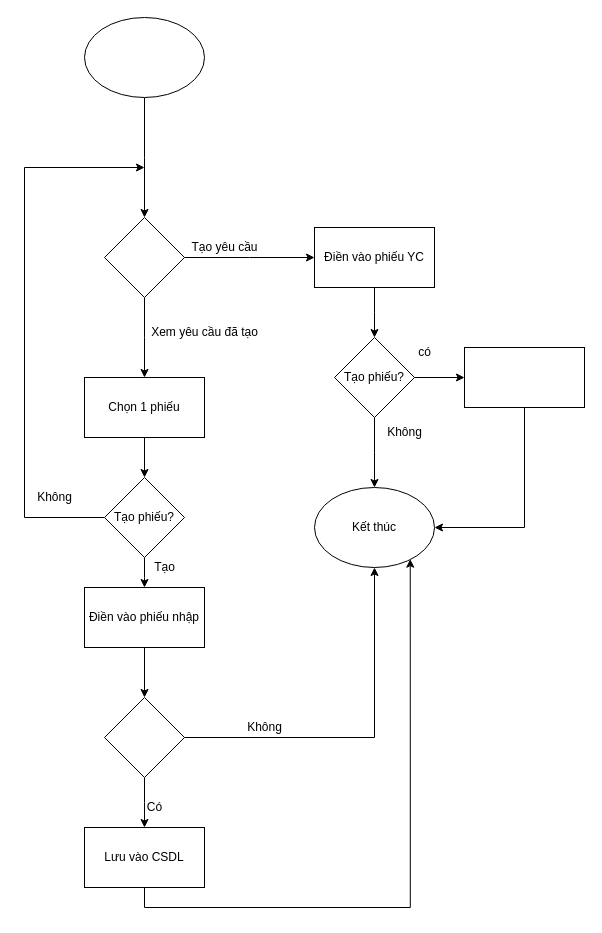
Some shapes in this 602 by 933 pixel diagram are drawn without their labels. The shapes that lost their labels are listed below. From the top down, each one's centre as x and y in pixels, then its label:
At [144,57]: "vào giao diện Nhập hàng".
At [524,377]: "Lưu phiếu".
At [144,737]: "Lưu?".
